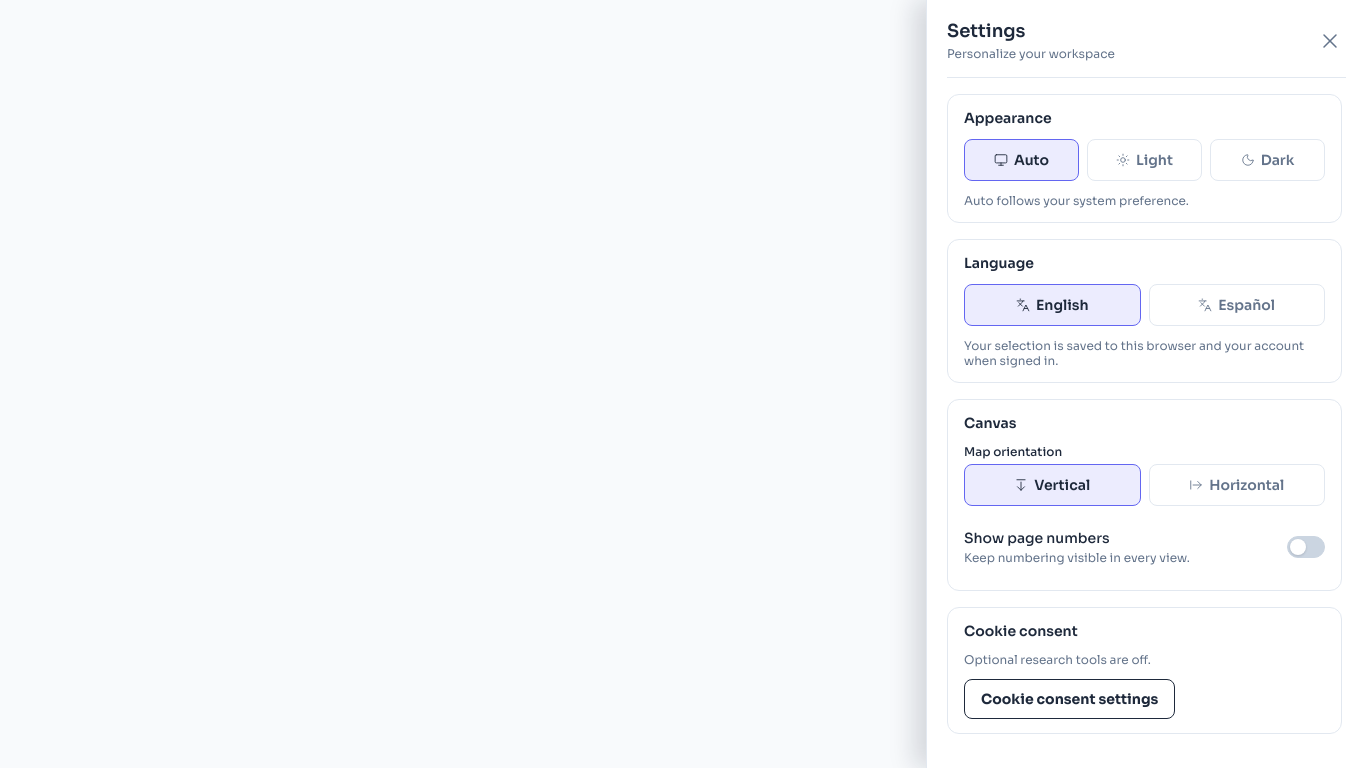
Test: SettingsDrawer › switches language using the existing segmented control
Click the button with class "ui-segmented-control__option" showing "Español".
click(1237, 305)  # box x1=1148 y1=284 x2=1325 y2=326
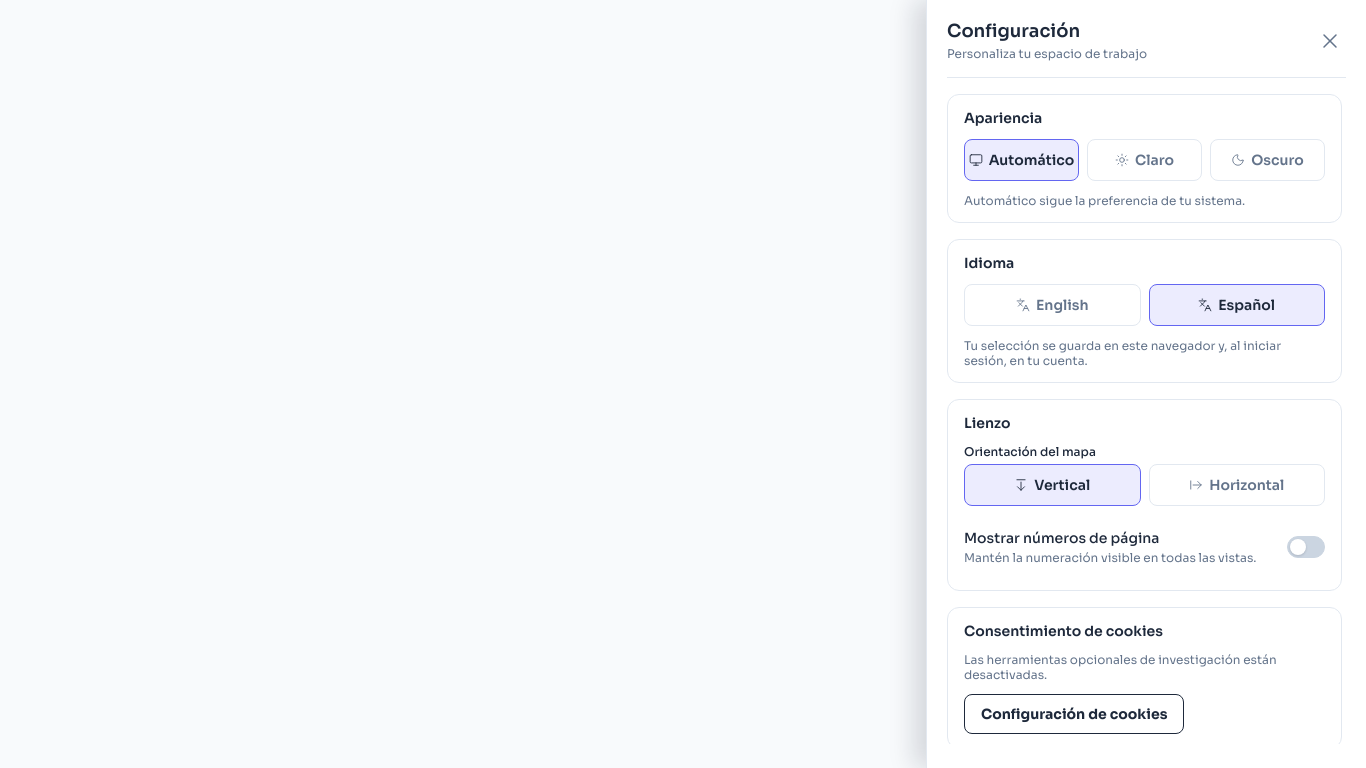
Result: the text "Configuración" is shown at x1=947 y1=20 x2=1080 y2=42
